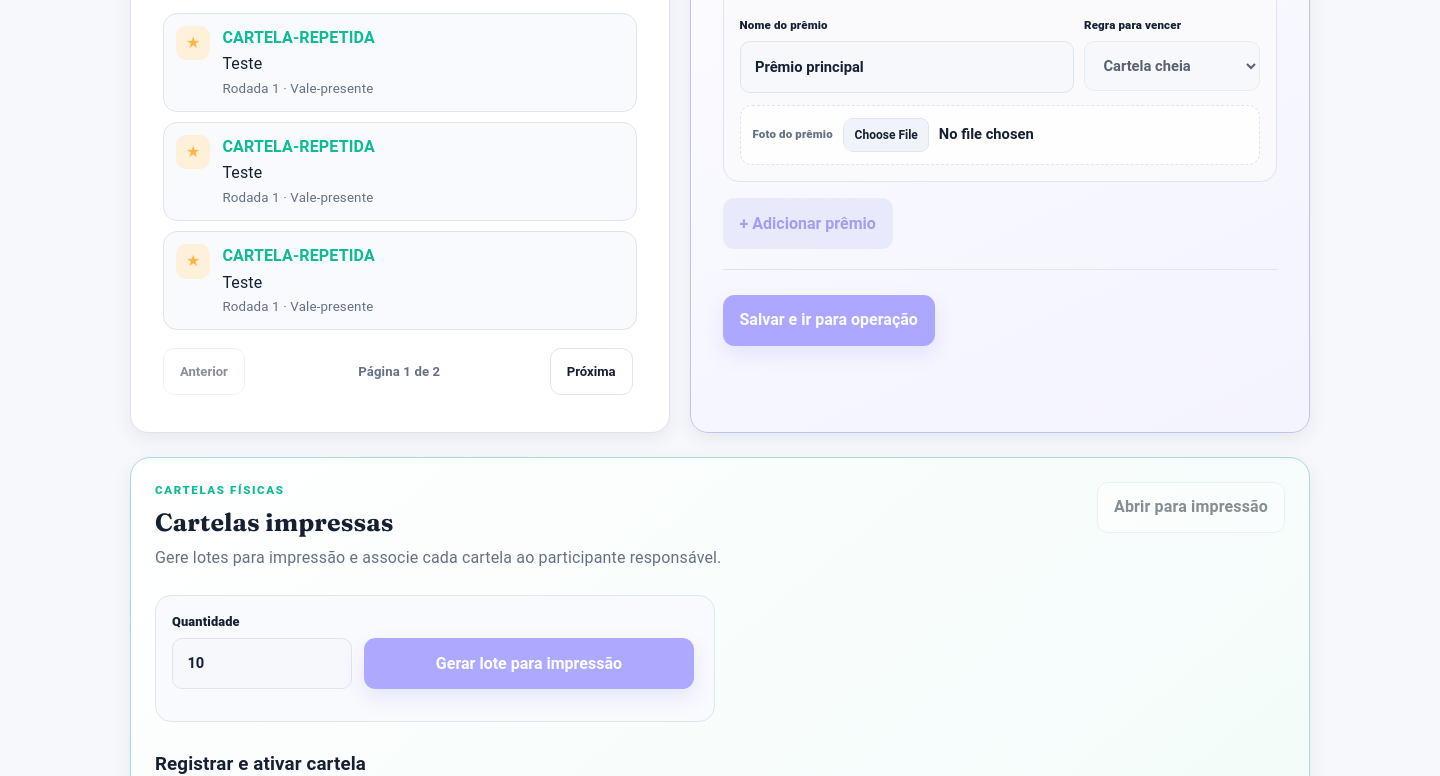
Test: EventSetupPage › substitui a página anterior mesmo quando as cartelas têm os mesmos dados visíveis
(page scrolled)
Expected: the number of list items is 3, [163,13,636,112]; [163,122,636,221]; [163,231,636,330]
What coordinates should you click on to do the following:
click the button "Próxima"
I would click on:
 (591, 372)
Its box is [550,348,632,395].
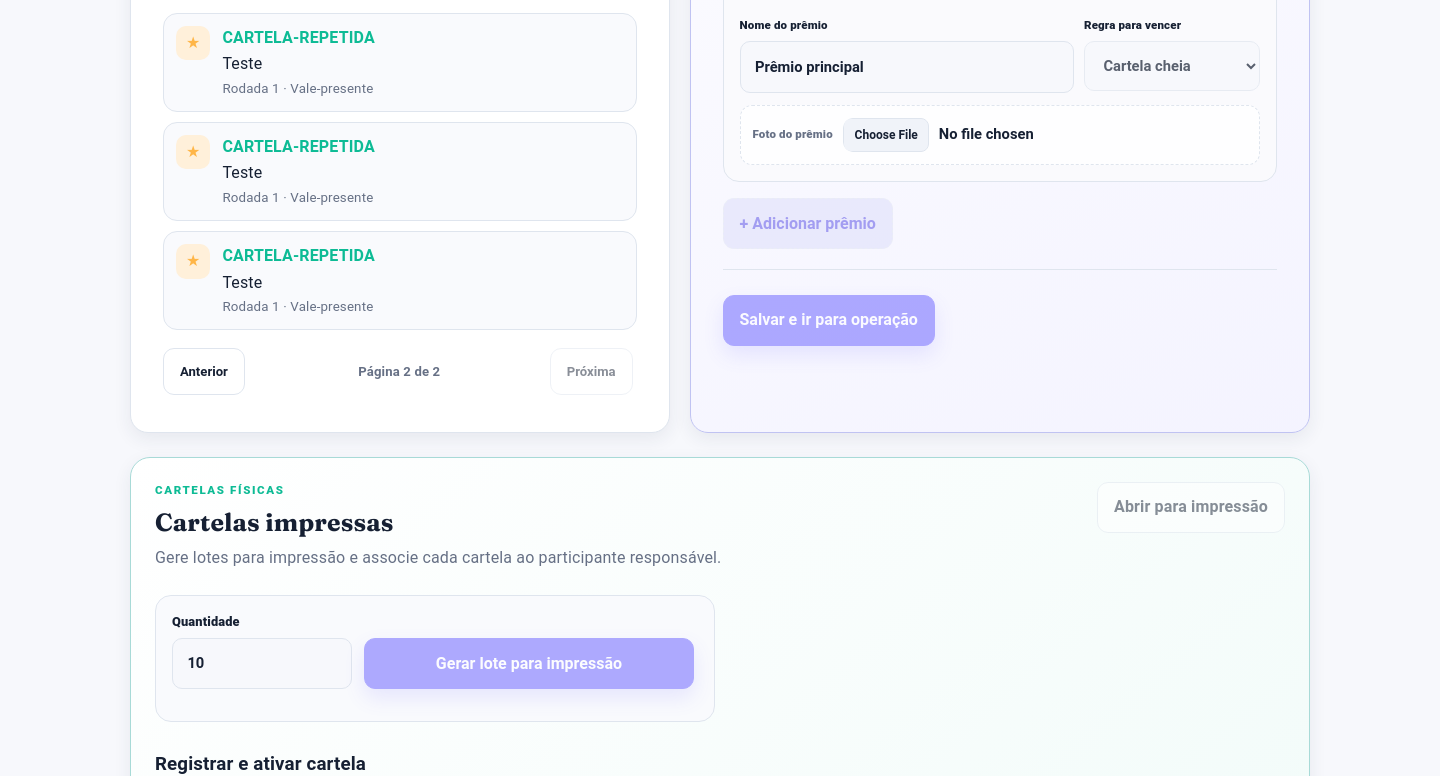
Expected: the number of list items is 3, [163,13,636,112]; [163,122,636,221]; [163,231,636,330]
Result: the text "Página 2 de 2" is shown at [358,362,440,382]
What coordinates should you click on to do the following:
click the button "Anterior"
I would click on:
 (204, 372)
Its box is [163,348,245,395].
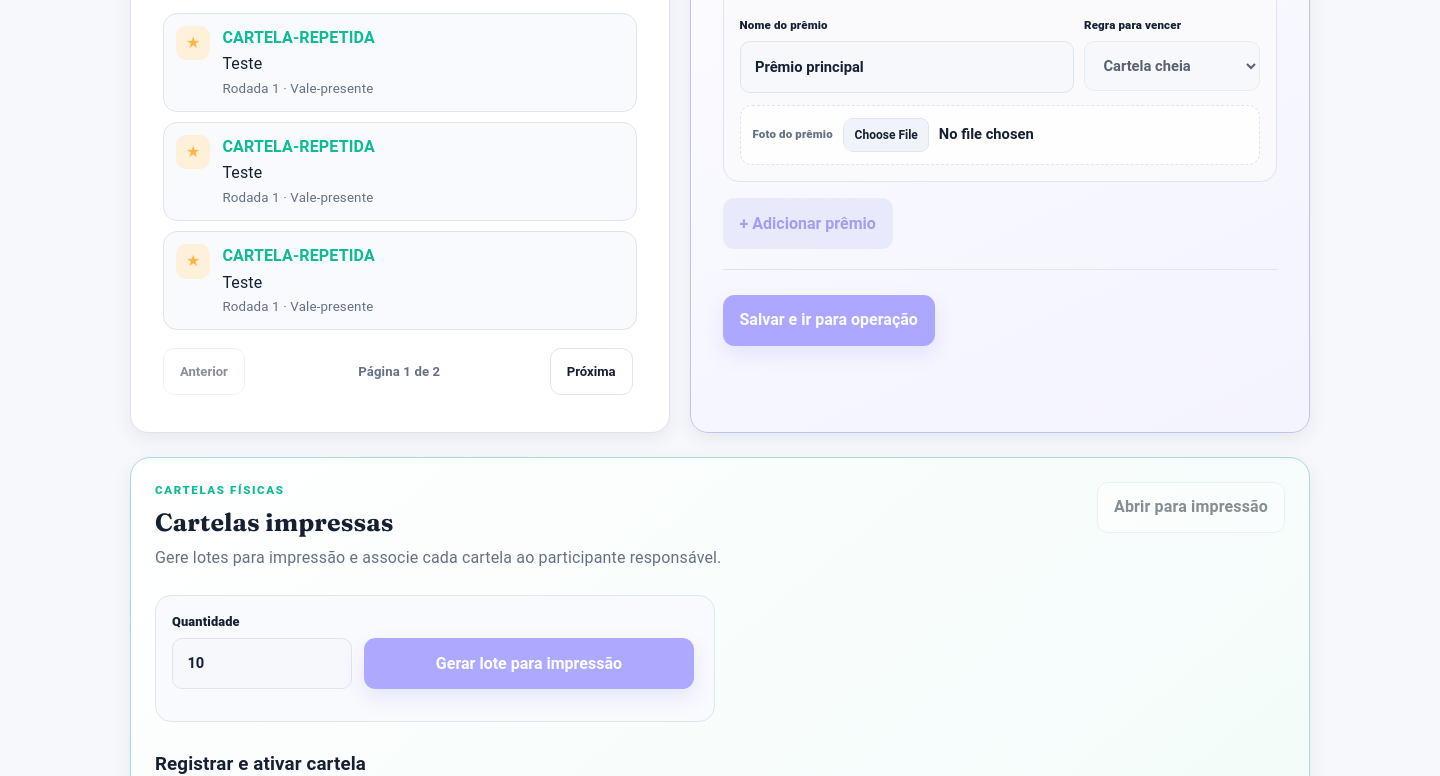
Expected: the number of list items is 3, [163,13,636,112]; [163,122,636,221]; [163,231,636,330]
Result: the text "Página 1 de 2" is shown at [358,362,440,382]
